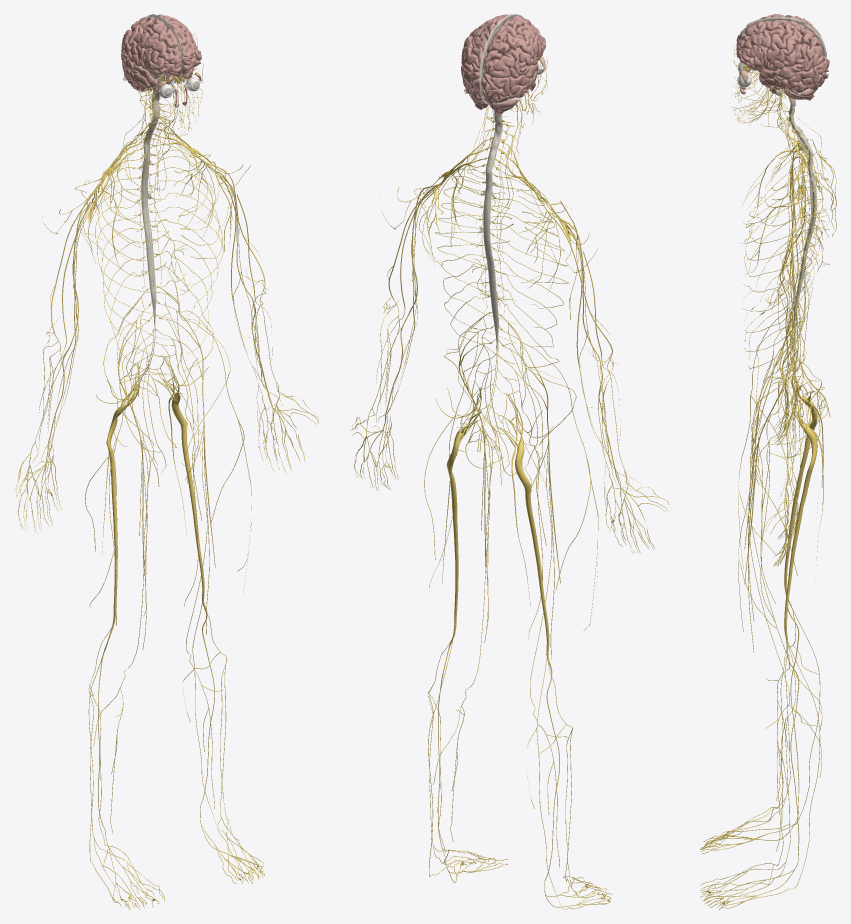
The model's file is female-nervous.glb.
3 views of the same model, side by side, from view 1: azimuth 30°, elevation 25°; view 2: azimuth 150°, elevation 25°; view 3: azimuth 270°, elevation 25° (orthographic). The views are drawn at different scales.
Visible parts, largest first — view 1: Intercostal_nerves_R, Spinal_dura, Intercostal_nerves_L, White_matter_of_spinal_cord, Sciatic_nerve_L, Sciatic_nerve_R; view 2: Spinal_dura, White_matter_of_spinal_cord, Sciatic_nerve_R, Intercostal_nerves_L, Intercostal_nerves_R, Sciatic_nerve_L; view 3: Sciatic_nerve_L, Spinal_dura, Intercostal_nerves_L, Sciatic_nerve_R, Intercostal_nerves_R, White_matter_of_spinal_cord, Middle_frontal_gyrus_L, Saphenous_nerve_L, Lateral_femoral_cutaneous_nerve_L, Saphenous_nerve_R, Precentral_gyrus_L, Femoral_nerve_L (+15 smaller).
Boxes of the visible parts, x1,y1,x2,y2 form: Intercostal_nerves_R: (95, 149, 174, 374); Spinal_dura: (141, 99, 160, 323); Intercostal_nerves_L: (152, 144, 223, 371); White_matter_of_spinal_cord: (141, 100, 159, 322); Sciatic_nerve_L: (153, 356, 204, 600); Sciatic_nerve_R: (106, 363, 139, 622); Spinal_dura: (479, 112, 502, 348); White_matter_of_spinal_cord: (483, 114, 502, 348); Sciatic_nerve_R: (495, 394, 549, 654); Intercostal_nerves_L: (435, 169, 517, 364); Intercostal_nerves_R: (494, 176, 568, 367); Sciatic_nerve_L: (446, 388, 480, 632); Sciatic_nerve_L: (784, 376, 817, 639); Spinal_dura: (788, 103, 817, 325); Intercostal_nerves_L: (742, 161, 822, 369); Sciatic_nerve_R: (784, 362, 817, 595); Intercostal_nerves_R: (742, 148, 822, 359); White_matter_of_spinal_cord: (789, 105, 816, 325); Middle_frontal_gyrus_L: (738, 29, 785, 62); Saphenous_nerve_L: (749, 444, 821, 851); Lateral_femoral_cutaneous_nerve_L: (738, 330, 797, 631); Saphenous_nerve_R: (749, 413, 822, 800); Precentral_gyrus_L: (766, 22, 794, 64); Femoral_nerve_L: (744, 319, 794, 584).
Bounding box in the file's own units: 0.586 × 1.56 × 0.2259.
